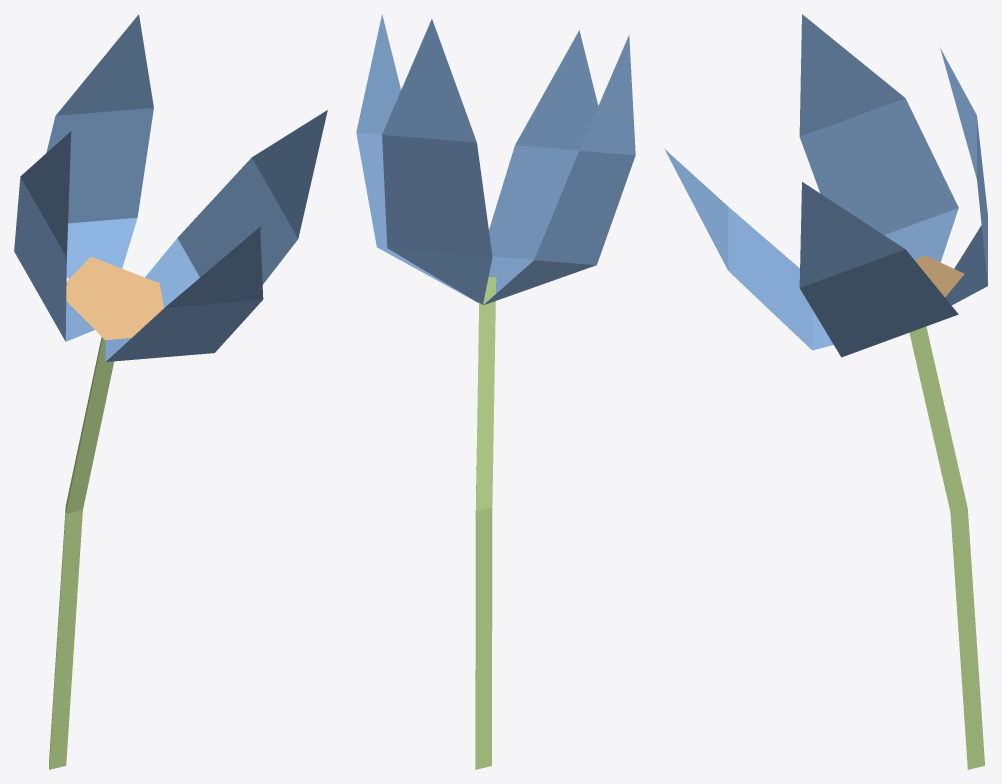
File: Flower_a_OneS_01.fbx
The picture shows the model from 3 angles, left to right: view 1: azimuth 30°, elevation 25°; view 2: azimuth 150°, elevation 25°; view 3: azimuth 270°, elevation 25°; orthographic projection. The views are drawn at different scales.
Parts seen in each view (by area): view 1: Flower_a_OneS_01; view 2: Flower_a_OneS_01; view 3: Flower_a_OneS_01.
Part boxes in pixels (left/top/right/bottom): Flower_a_OneS_01: left=14, top=14, right=327, bottom=769; Flower_a_OneS_01: left=356, top=14, right=635, bottom=769; Flower_a_OneS_01: left=664, top=14, right=987, bottom=769.
Size of the model in its own units: 26.38 by 71.87 by 28.06.
